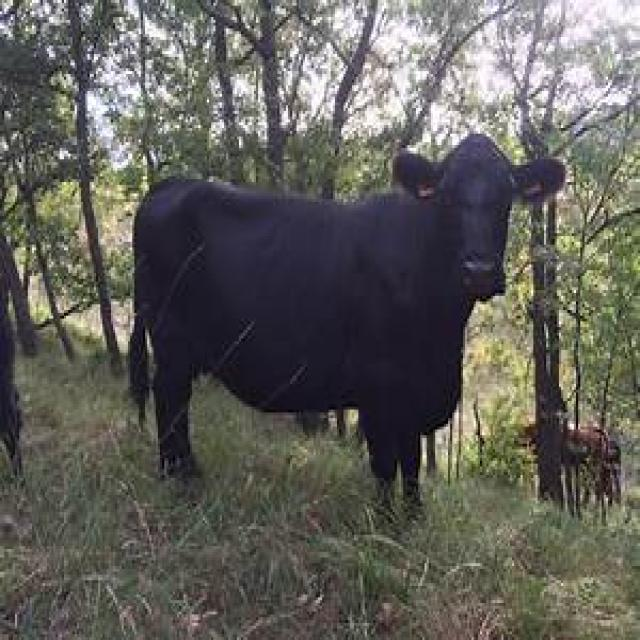cow: (126, 134, 570, 498)
